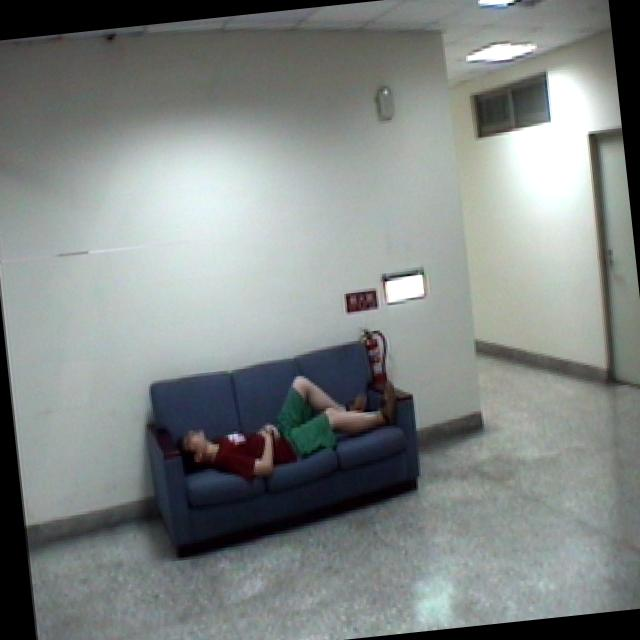lie: (172, 358, 406, 492)
